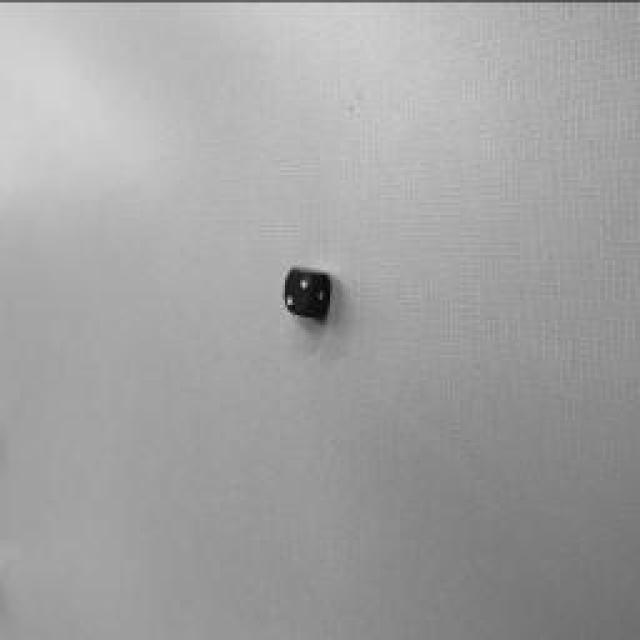dice_2: (284, 268, 311, 314)
